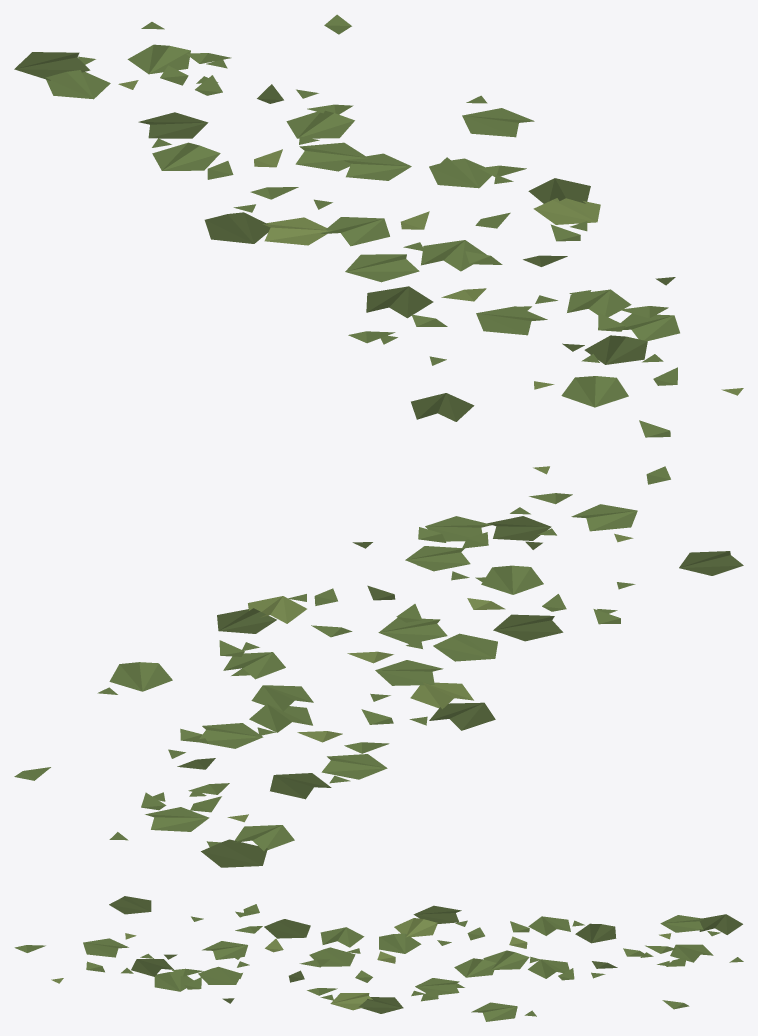
Rendered from Leaves_02.fbx.
3 renders of one model, top to bottom at view 1: azimuth 30°, elevation 25°; view 2: azimuth 150°, elevation 25°; view 3: azimuth 270°, elevation 25°, orthographic. The views are drawn at different scales.
Parts seen in each view (by area): view 1: Leaves_02; view 2: Leaves_02; view 3: Leaves_02.
Part boxes in pixels (bbox=[...]): Leaves_02: bbox=[14, 14, 743, 437]; Leaves_02: bbox=[14, 466, 743, 867]; Leaves_02: bbox=[14, 896, 743, 1021].
Bounding box in the file's own units: 1.1 × 0.0137 × 2.68.
